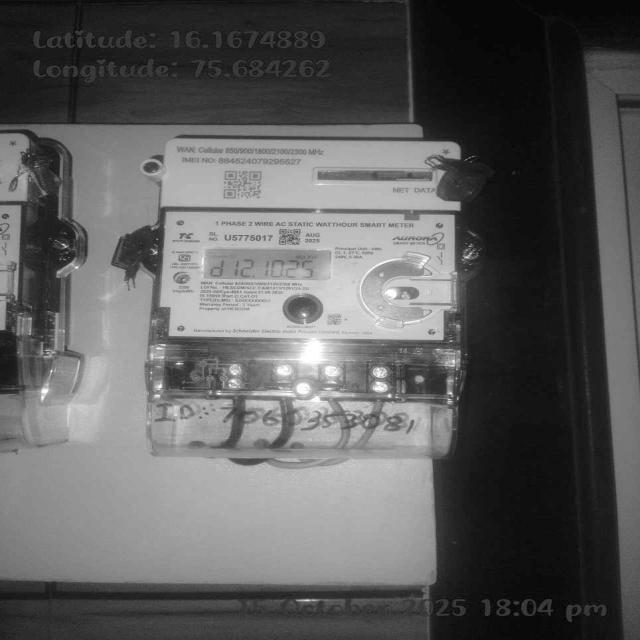meter: (166, 135, 465, 344)
